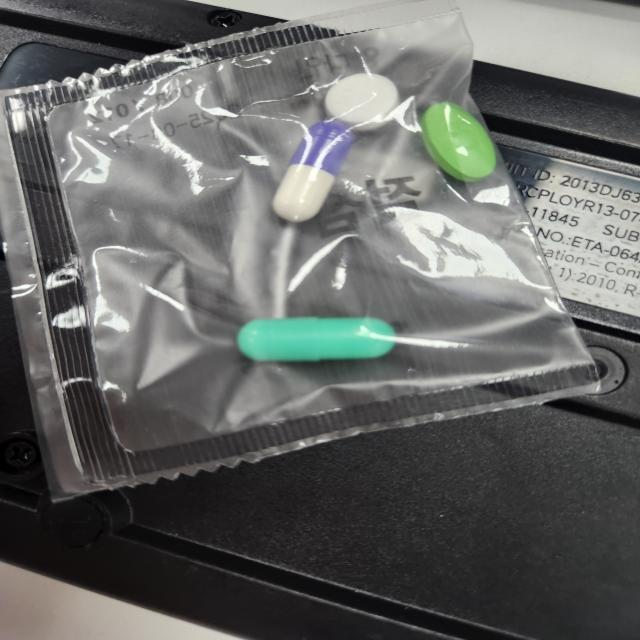러키펜정: (324, 73, 401, 128)
씨엠지세파클러캡슐: (270, 121, 356, 224)
에르도캡슐: (237, 314, 400, 363)
휴티렌정: (419, 103, 500, 183)
